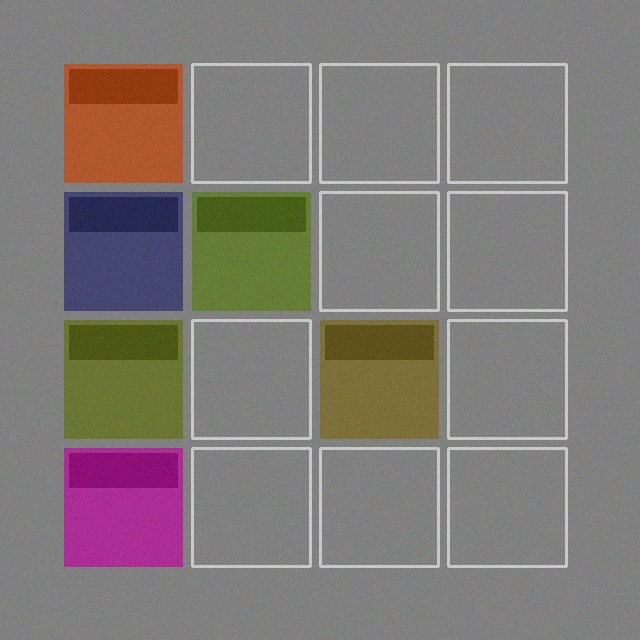space-empty: (192, 64, 310, 182), (320, 64, 438, 182), (448, 64, 566, 182), (320, 192, 438, 310), (448, 192, 566, 310), (192, 320, 310, 438), (448, 320, 566, 438), (192, 448, 310, 566), (320, 448, 438, 566), (448, 448, 566, 566)
space-occupied: (64, 64, 182, 182), (64, 192, 182, 310), (192, 192, 310, 310), (64, 320, 182, 438), (320, 320, 438, 438), (64, 448, 182, 566)
